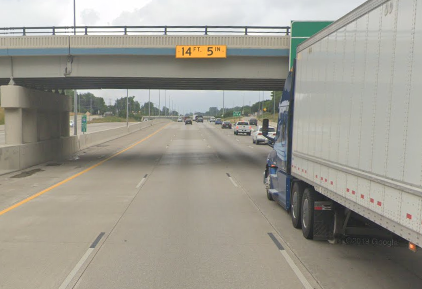1: (179, 45, 187, 57)
4: (184, 45, 194, 57)
5: (206, 45, 214, 57)
overheadsign: (174, 44, 228, 58)
